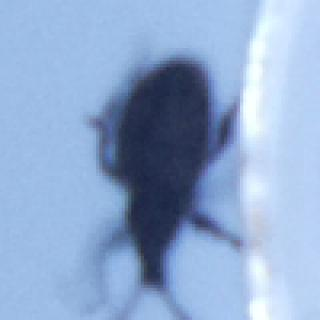bvw: (82, 49, 245, 320)
